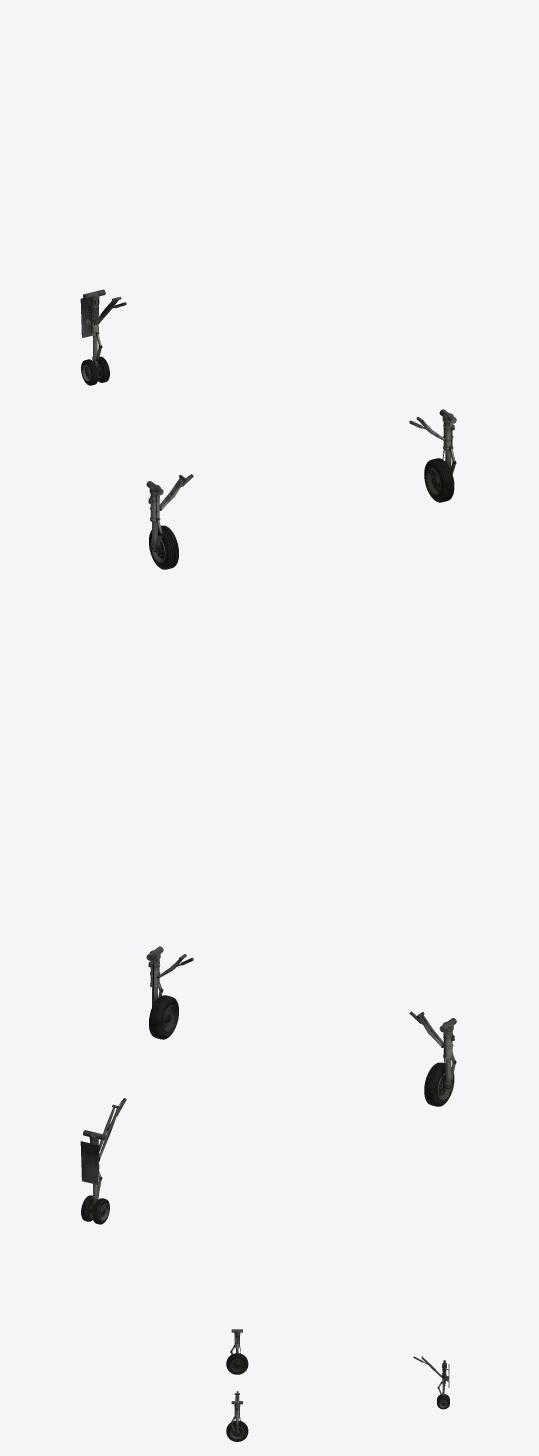
Rendered from e_f4_gear.glb.
3 views of the same model, one above another, from view 1: azimuth 30°, elevation 25°; view 2: azimuth 150°, elevation 25°; view 3: azimuth 270°, elevation 25° (orthographic). The views are drawn at different scales.
Visible parts, largest first — view 1: body|F4_paint; view 2: body|F4_paint; view 3: body|F4_paint.
Part boxes in pixels (x1,y1,x2,y2): body|F4_paint: (80, 289, 456, 569); body|F4_paint: (80, 946, 456, 1224); body|F4_paint: (226, 1329, 449, 1441).
Size of the model in its own units: 6.17 by 5.97 by 17.87.
Materials: 1 (1 with a texture image).
